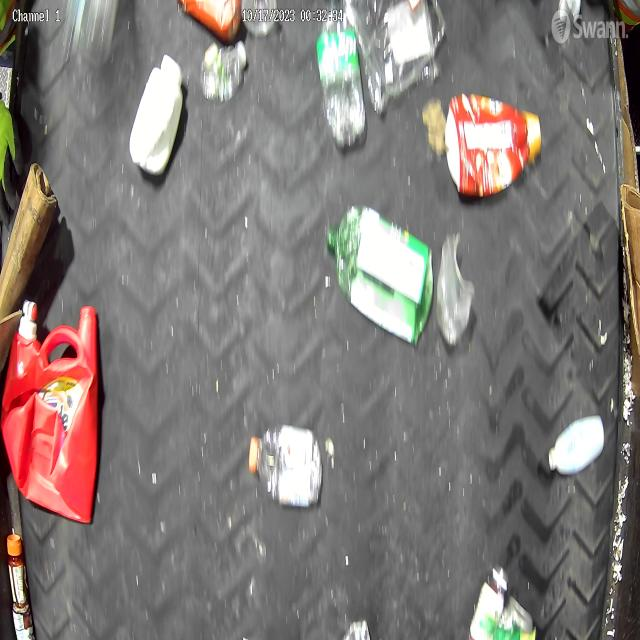can: (498, 595, 534, 640)
non_white_jug: (1, 301, 98, 524), (445, 91, 542, 197)
plastic_bottle: (249, 422, 326, 511), (317, 9, 364, 150), (199, 39, 248, 107)
